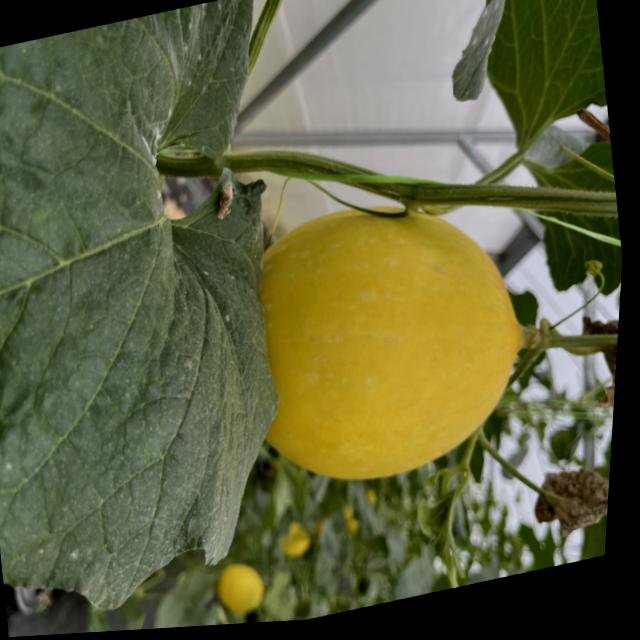healthy: (461, 0, 620, 157)
powdery mildew: (0, 0, 347, 624)
